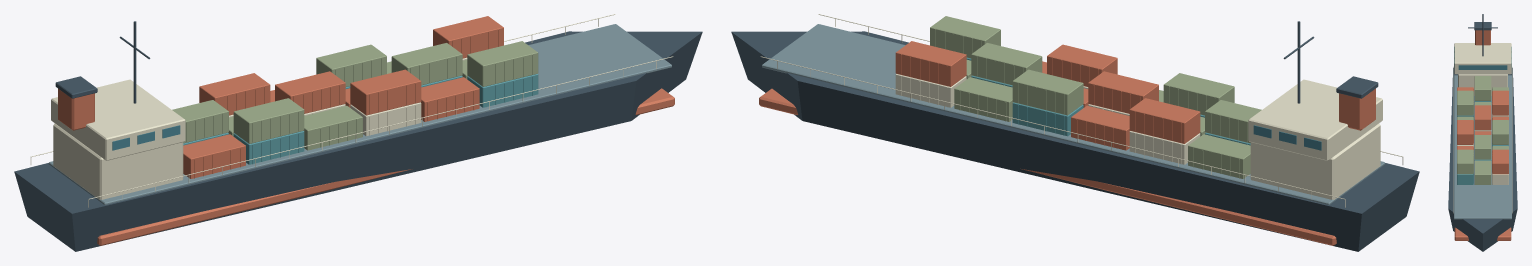
Rendered from cargo_ship.glb.
The picture shows the model from 3 angles, left to right: view 1: azimuth 30°, elevation 25°; view 2: azimuth 150°, elevation 25°; view 3: azimuth 270°, elevation 25°; orthographic projection. The views are drawn at different scales.
Parts seen in each view (by area): view 1: cargo_ship; view 2: cargo_ship; view 3: cargo_ship.
Boxes of the visible parts, x1,y1,x2,y2 form: cargo_ship: [14, 14, 702, 251]; cargo_ship: [731, 14, 1419, 251]; cargo_ship: [1448, 14, 1517, 251].
Size of the model in its own units: 79 by 22 by 14.
